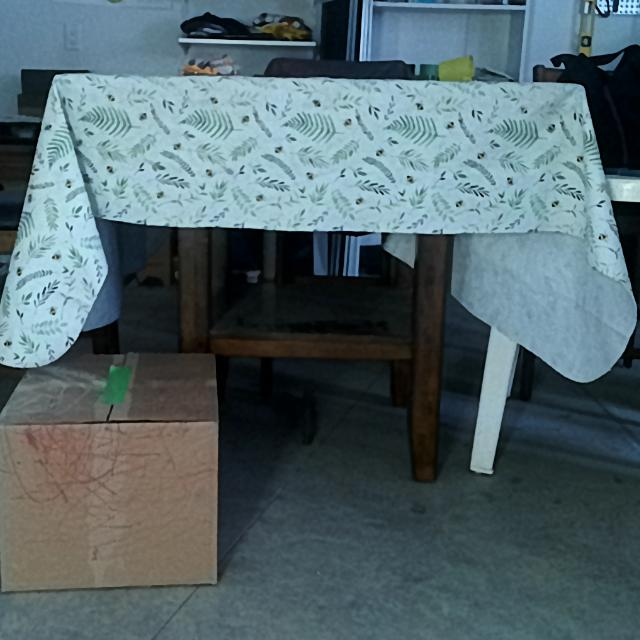box: (0, 421, 217, 594)
